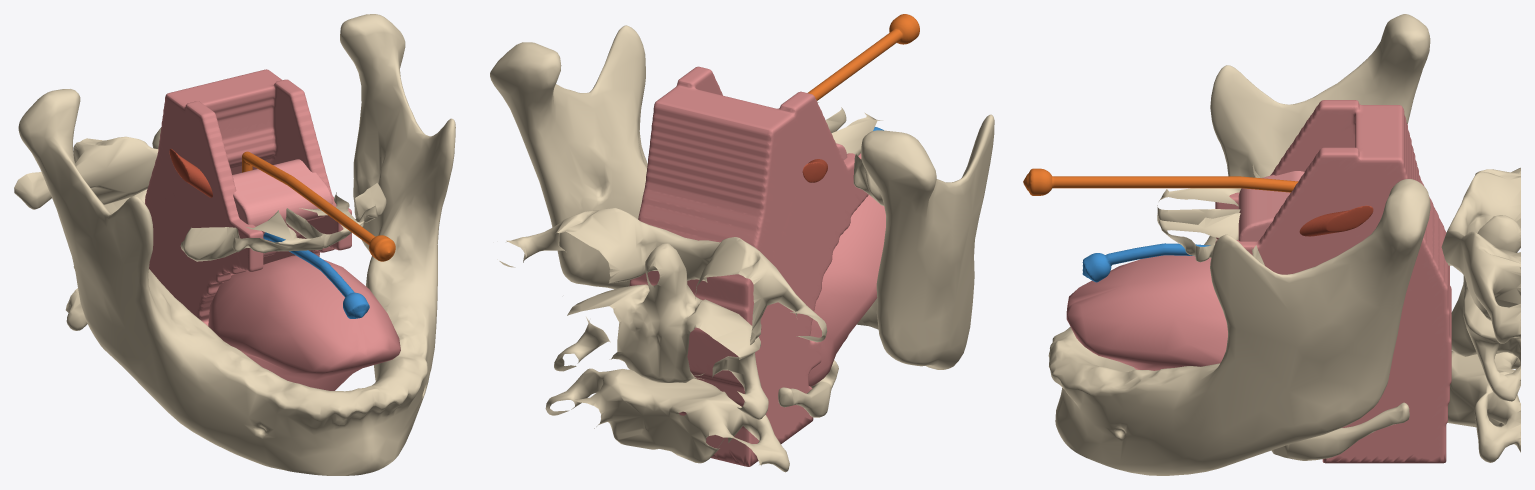
File: vpi-whole.glb
3 renders of one model, left to right at view 1: azimuth 30°, elevation 25°; view 2: azimuth 150°, elevation 25°; view 3: azimuth 270°, elevation 25°, orthographic. The views are drawn at different scales.
Visible parts, largest first — view 1: bone (×5), mucosa, tongue, soft, leak, air, muscle; view 2: bone (×6), mucosa, tongue, leak; view 3: bone (×7), mucosa, tongue, leak, soft, air, muscle.
Part boxes in pixels (x1,y1,x2,y2): bone (×5): (14, 14, 455, 475); mucosa: (145, 69, 351, 325); tongue: (208, 255, 400, 390); soft: (232, 159, 332, 256); leak: (242, 151, 395, 261); air: (263, 232, 369, 318); muscle: (169, 148, 212, 197); bone (×6): (490, 25, 994, 472); mucosa: (629, 66, 868, 466); tongue: (808, 195, 885, 386); leak: (808, 14, 919, 100); bone (×7): (1048, 14, 1520, 475); mucosa: (1215, 100, 1451, 463); tongue: (1066, 255, 1227, 370); leak: (1023, 168, 1298, 195); soft: (1238, 171, 1304, 241); air: (1082, 243, 1210, 282); muscle: (1299, 205, 1373, 236).
Bounding box in the file's own units: 106 × 81.1 × 109.
